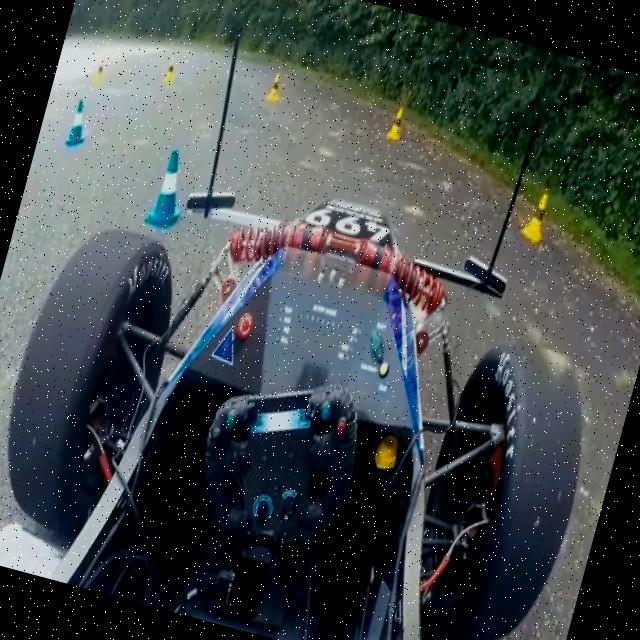blue_cone: (134, 144, 194, 234), (64, 97, 92, 146)
yellow_cone: (516, 178, 556, 247), (384, 104, 406, 146), (264, 66, 286, 105), (160, 59, 178, 90), (92, 62, 106, 88)
